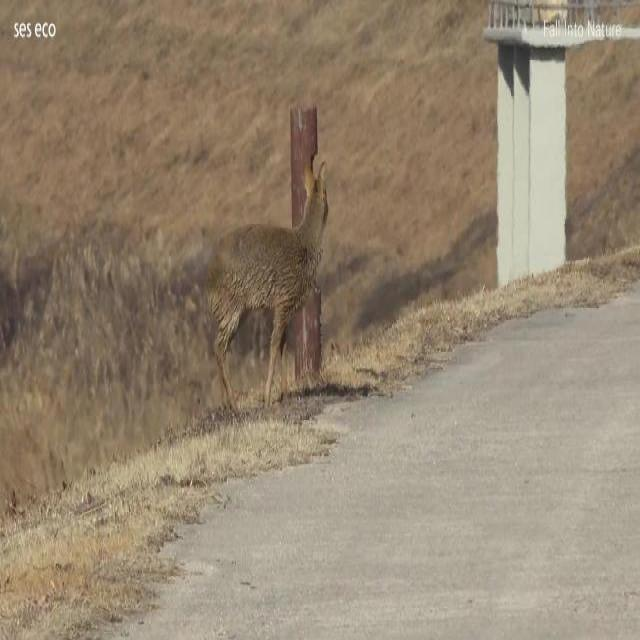deer: (206, 162, 331, 409)
